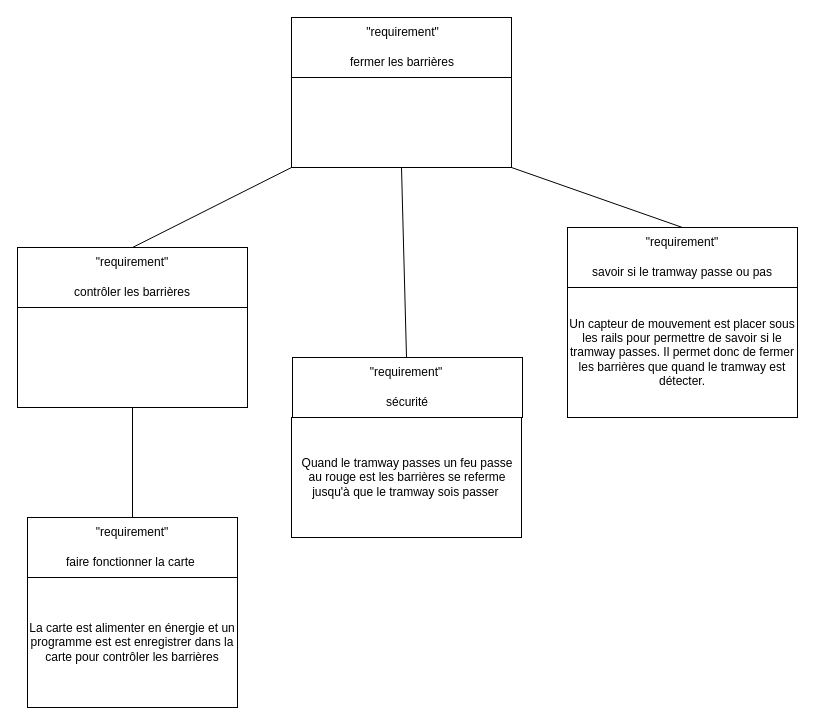
Some shapes in this 815 by 725 pixel diagram are drawn without their labels. Each missing label, with the box of its shape:
fermer les barrière quand le tramway est a proximité: (290, 76, 512, 168)
les barrières et le capteur de mouvement doivent relier a une carte arduino.: (16, 306, 248, 408)
